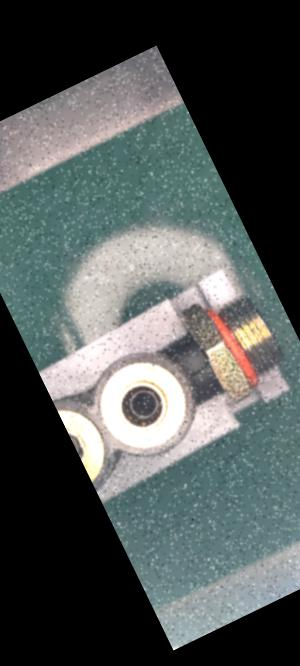craze: (189, 360, 213, 380)
